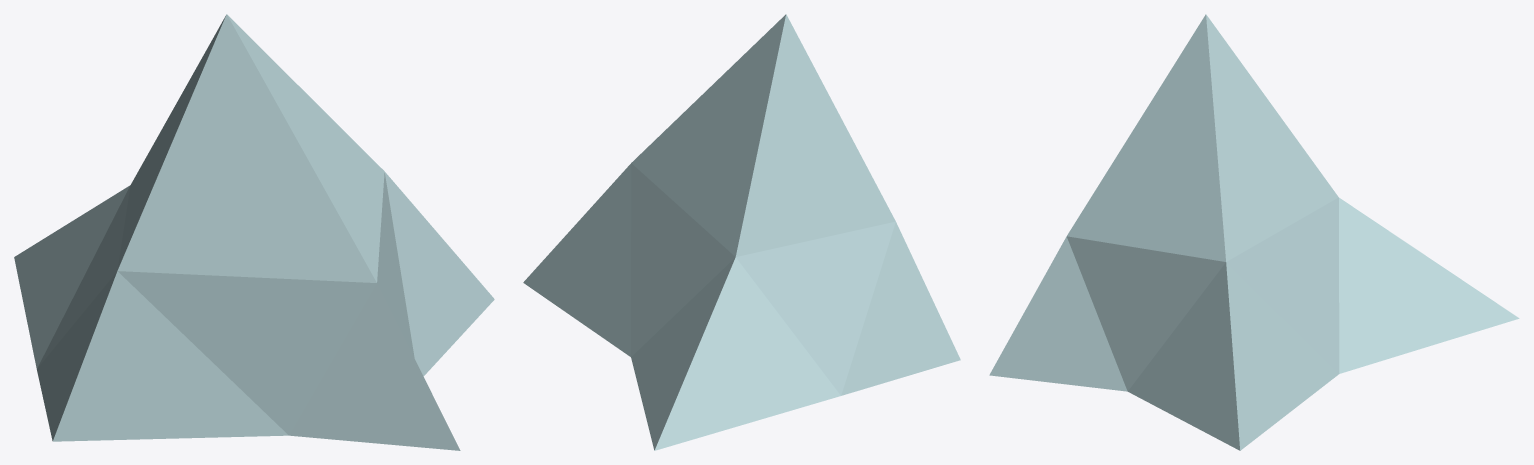
File: spikes03.fbx
3 renders of one model, left to right at view 1: azimuth 30°, elevation 25°; view 2: azimuth 150°, elevation 25°; view 3: azimuth 270°, elevation 25°, orthographic. The views are drawn at different scales.
Visible parts, largest first — view 1: polySurface6; view 2: polySurface6; view 3: polySurface6.
Boxes of the visible parts, <box> form: polySurface6: <box>14,14,494,450</box>; polySurface6: <box>523,14,960,450</box>; polySurface6: <box>989,14,1519,450</box>.
Bounding box in the file's own units: 0.0764 × 0.0566 × 0.0859.
